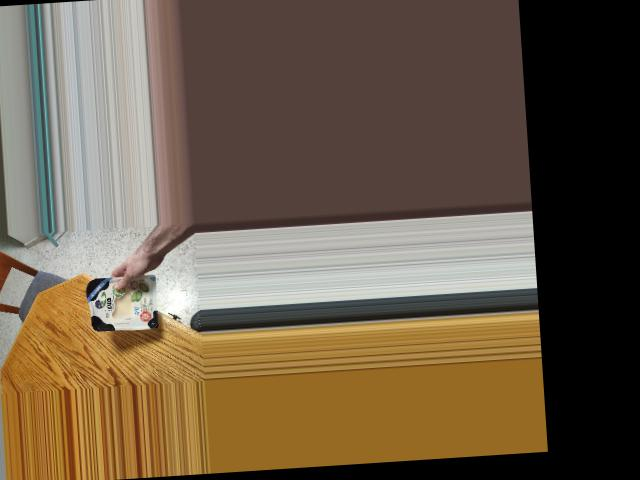cheese: (85, 270, 163, 332)
